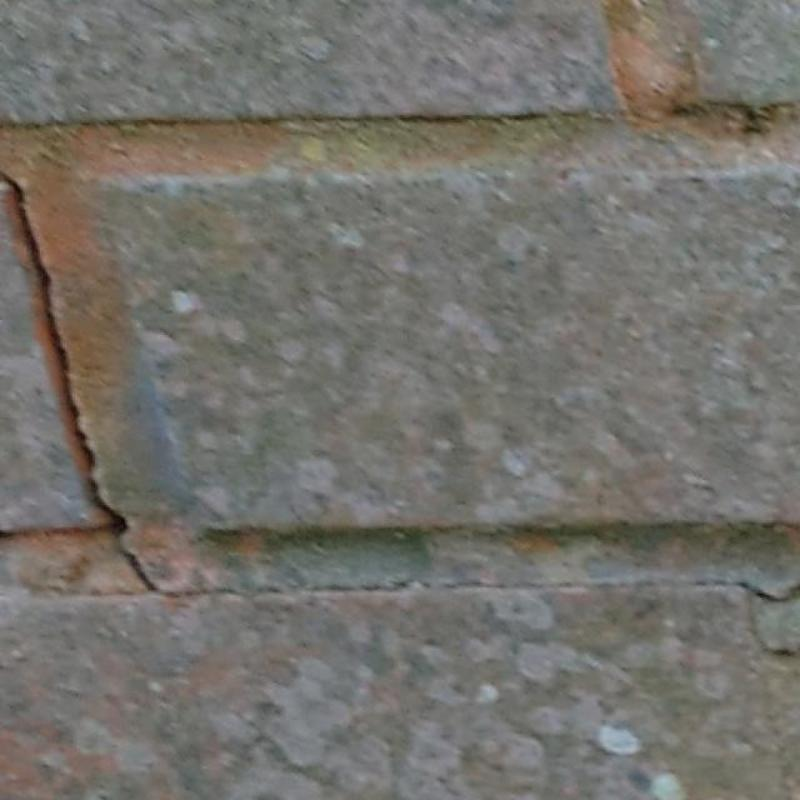crack: (161, 579, 799, 660), (3, 173, 131, 539), (120, 550, 164, 591)
